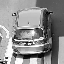mobil: (11, 5, 55, 57)
